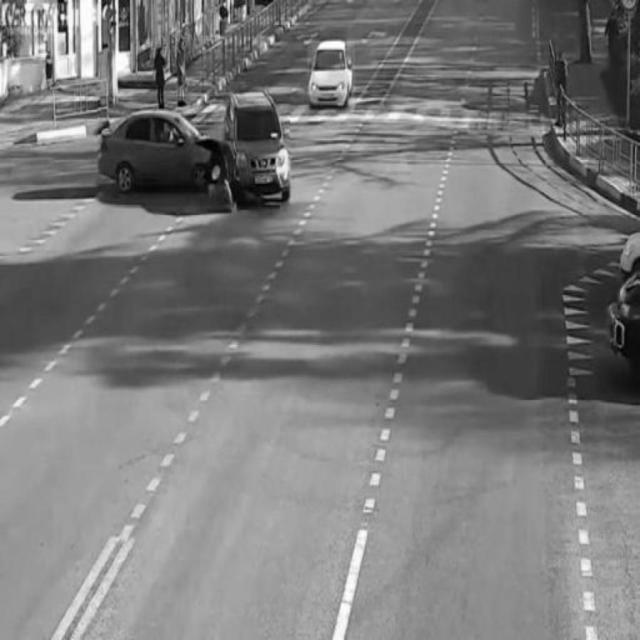accident: (97, 97, 291, 207)
vehicle: (308, 42, 355, 106)
